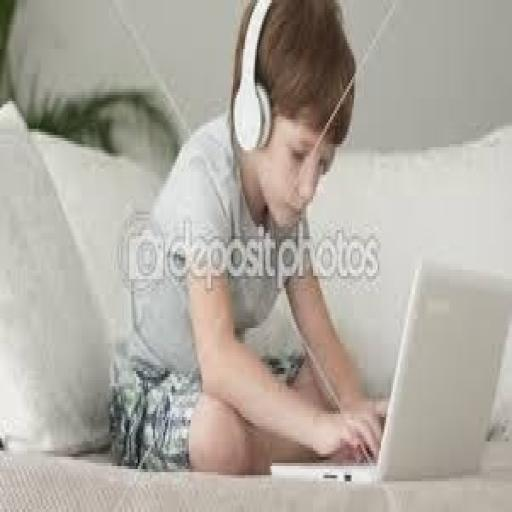using_laptop: (269, 254, 510, 484)
